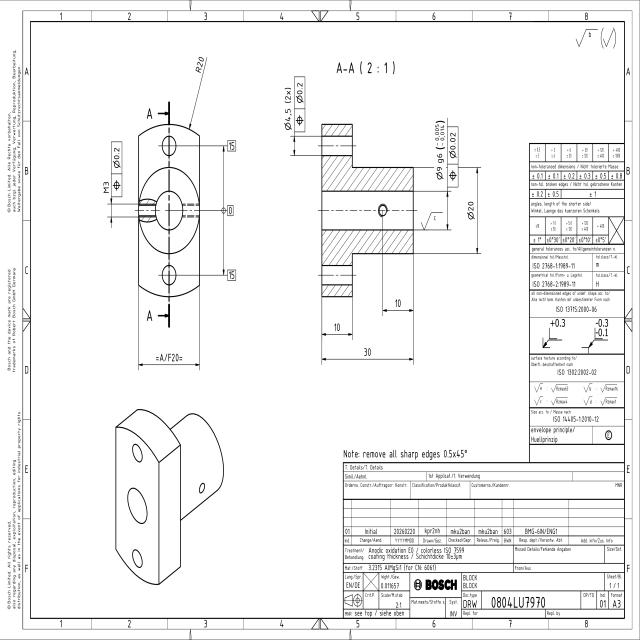dimension: (432, 116, 446, 180), (282, 85, 292, 132), (154, 351, 184, 364), (194, 54, 207, 76), (465, 199, 476, 221), (226, 138, 237, 152), (101, 180, 110, 196), (227, 268, 237, 282), (362, 346, 372, 357), (226, 204, 234, 217), (332, 322, 342, 332), (393, 298, 402, 308)
